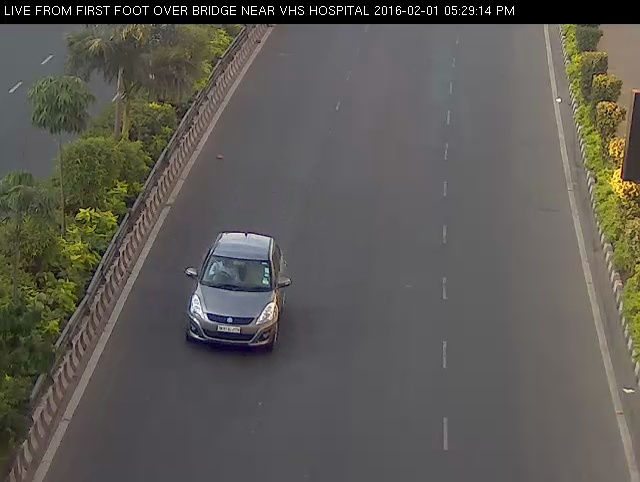Car: (171, 222, 300, 364)
